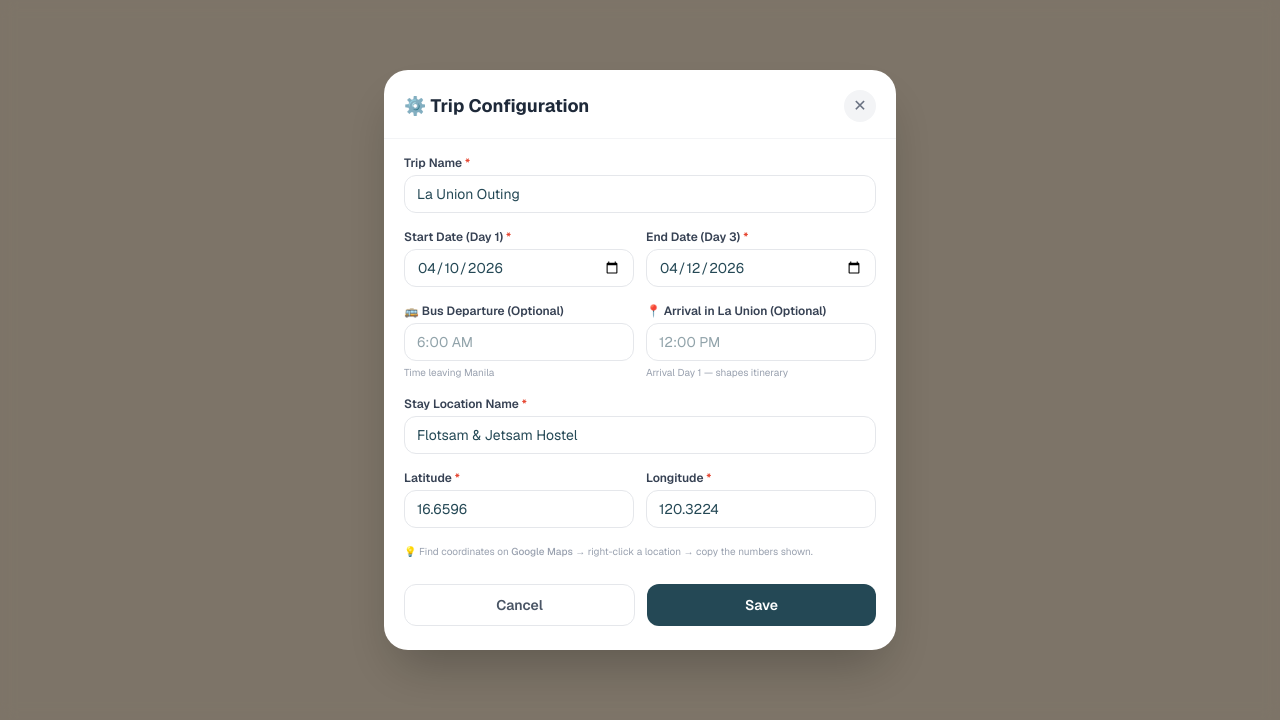
TripConfigModal › [AC-TRIPCONFIG-ERR1] shows server error message when PUT returns error
Step 1. Click the button "Save" → (762, 605), box [647,584,876,626]
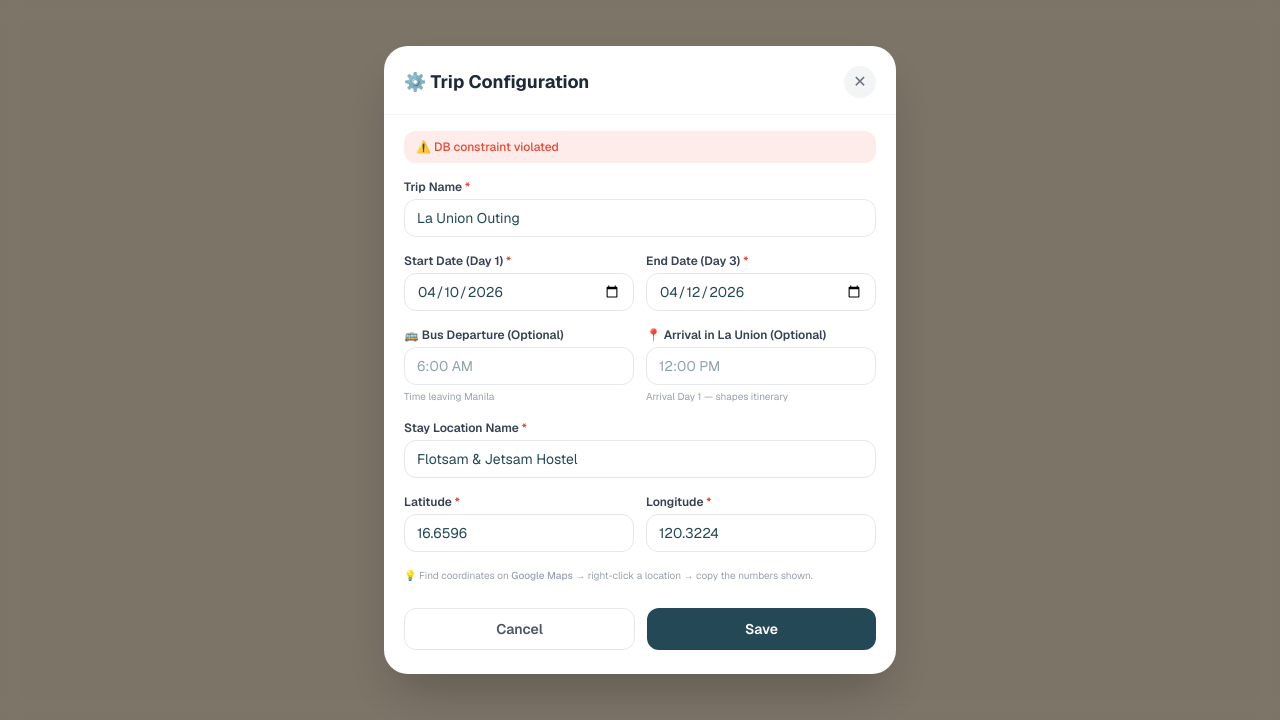
Expected: the message shows "DB constraint violated", [434,139,559,155]
